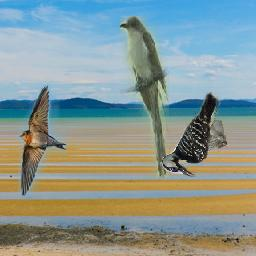Cuckoo: (121, 16, 170, 178)
Swallow: (18, 84, 66, 196)
Woodpecker: (161, 93, 228, 178)
